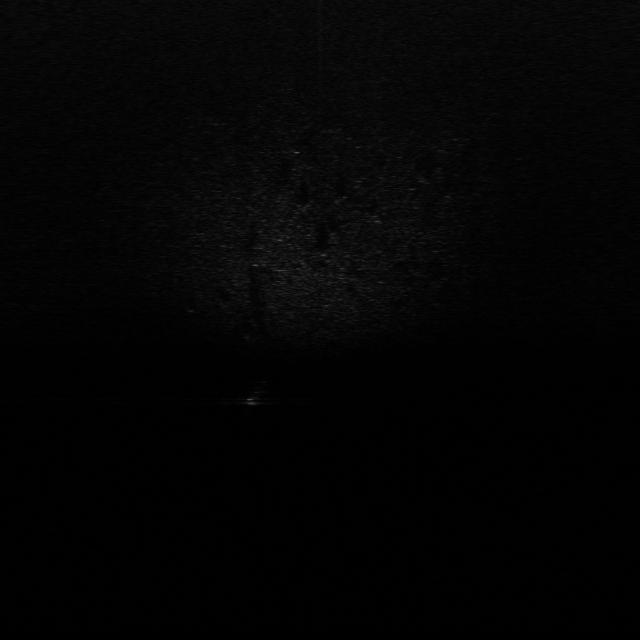human body: (238, 377, 273, 414)
